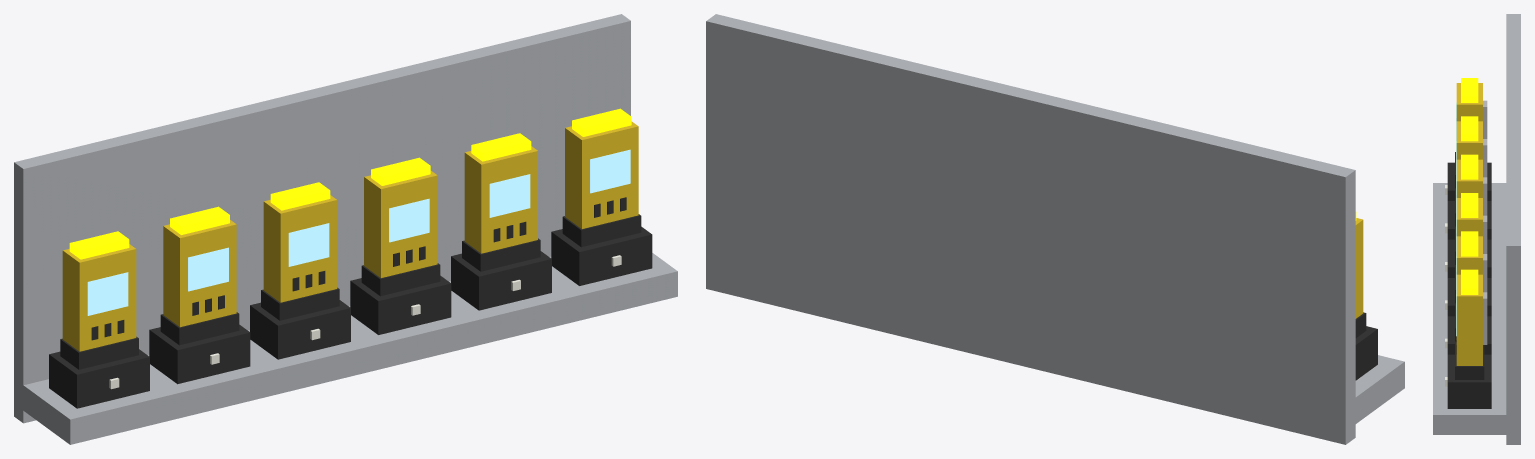
File: SM_DetectorChargingRack.fbx
3 renders of one model, left to right at view 1: azimuth 30°, elevation 25°; view 2: azimuth 150°, elevation 25°; view 3: azimuth 270°, elevation 25°, orthographic. The views are drawn at different scales.
Visible parts, largest first — view 1: GD_ChargingRack; view 2: GD_ChargingRack; view 3: GD_ChargingRack.
Boxes of the visible parts, left/top/right/bottom form: GD_ChargingRack: left=14, top=14, right=677, bottom=444; GD_ChargingRack: left=706, top=14, right=1404, bottom=444; GD_ChargingRack: left=1433, top=14, right=1520, bottom=444.
Size of the model in its own units: 75 by 30 by 12.
